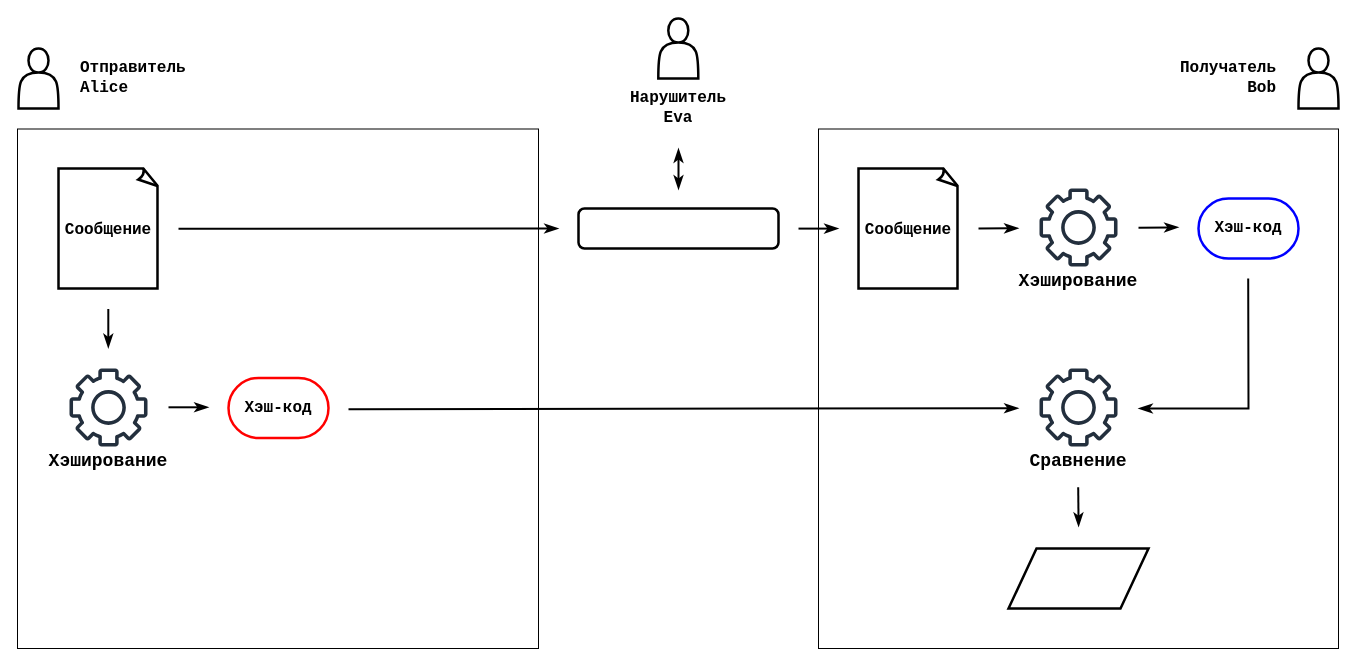
The diagram is 1357 pixels wide and 666 high, and some of its shapes have lost their labels. Each missing label, with the box of its shape:
Канал связи: (577, 207, 779, 249)
Результат проверки: (1007, 547, 1149, 609)
